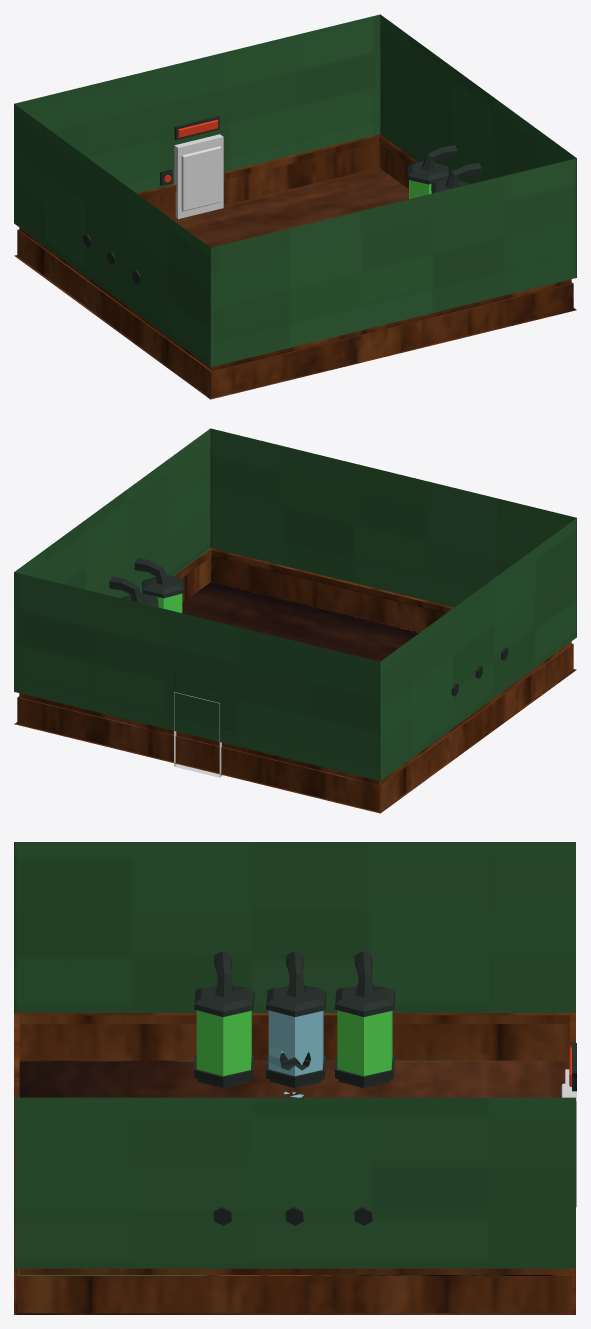
Rendered from Room_Lab.fbx.
3 renders of one model, top to bottom at view 1: azimuth 30°, elevation 25°; view 2: azimuth 150°, elevation 25°; view 3: azimuth 270°, elevation 25°, orthographic. The views are drawn at different scales.
Visible parts, largest first — view 1: room, room.001, containers; view 2: room, containers; view 3: room, containers, containers_emissive, containerBroken.
Boxes of the visible parts, x1,y1,x2,y2 form: room: (14,14,576,399); room.001: (174,134,223,218); containers: (83,145,481,283); room: (14,428,576,813); containers: (109,558,508,696); room: (14,842,576,1314); containers: (194,951,395,1225); containers_emissive: (196,1010,392,1076); containerBroken: (268,1010,323,1097).
Bounding box in the file's own units: 112 × 44.53 × 103.
